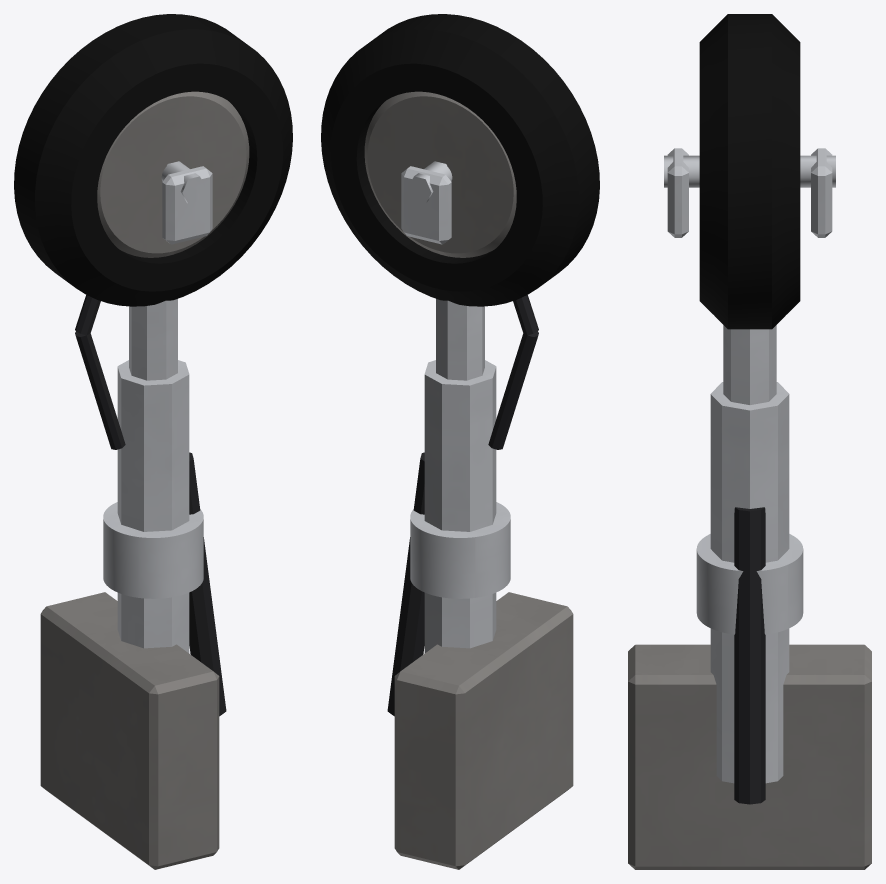
File: ax_gear_01_nose_gear_s_stowed.glb
The picture shows the model from 3 angles, left to right: view 1: azimuth 30°, elevation 25°; view 2: azimuth 150°, elevation 25°; view 3: azimuth 270°, elevation 25°; orthographic projection. The views are drawn at different scales.
Visible parts, largest first — view 1: wheel_tyres, mount_block, gear_leg, wheel_hubs, gear_links, gear_axles; view 2: wheel_tyres, mount_block, gear_leg, wheel_hubs, gear_links, gear_axles; view 3: mount_block, gear_leg, wheel_tyres, gear_links, gear_axles.
Part boxes in pixels (x1=…): wheel_tyres: x1=14, y1=14, x2=292, y2=306; mount_block: x1=40, y1=592, x2=219, y2=869; gear_leg: x1=103, y1=166, x2=212, y2=653; wheel_hubs: x1=97, y1=91, x2=249, y2=257; gear_links: x1=75, y1=295, x2=226, y2=716; gear_axles: x1=161, y1=161, x2=205, y2=203; wheel_tyres: x1=321, y1=14, x2=599, y2=306; mount_block: x1=394, y1=592, x2=573, y2=869; gear_leg: x1=401, y1=166, x2=510, y2=653; wheel_hubs: x1=364, y1=91, x2=516, y2=257; gear_links: x1=387, y1=295, x2=538, y2=716; gear_axles: x1=408, y1=161, x2=452, y2=203; mount_block: x1=628, y1=644, x2=871, y2=869; gear_leg: x1=667, y1=148, x2=832, y2=783; wheel_tyres: x1=699, y1=14, x2=800, y2=329; gear_links: x1=734, y1=507, x2=765, y2=804; gear_axles: x1=664, y1=155, x2=835, y2=187.
Size of the model in its own units: 0.4399 by 1.29 by 0.34.
4 materials, 2 textured.
